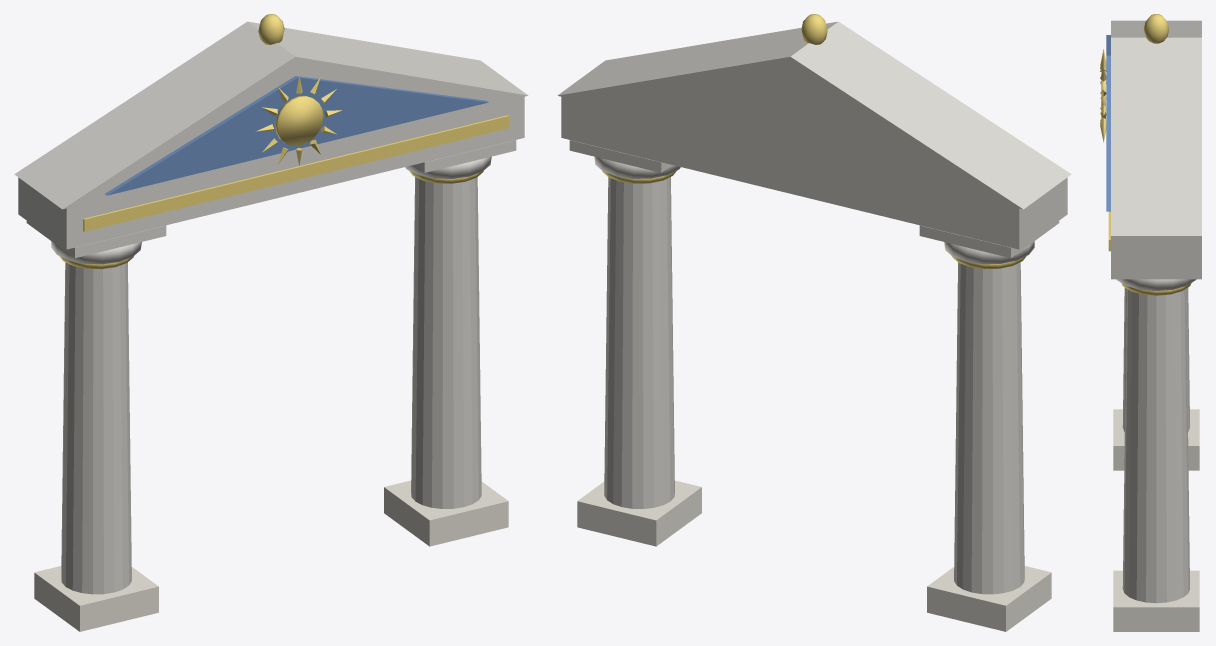
File: olimpo_puertas_marco.glb
The picture shows the model from 3 angles, left to right: view 1: azimuth 30°, elevation 25°; view 2: azimuth 150°, elevation 25°; view 3: azimuth 270°, elevation 25°; orthographic projection. The views are drawn at different scales.
Parts seen in each view (by area): view 1: olimpo_puertas_marco; view 2: olimpo_puertas_marco; view 3: olimpo_puertas_marco.
Boxes of the visible parts, x1=… form: olimpo_puertas_marco: x1=14, y1=14, x2=528, y2=631; olimpo_puertas_marco: x1=557, y1=14, x2=1071, y2=631; olimpo_puertas_marco: x1=1100, y1=14, x2=1201, y2=631.
Size of the model in its own units: 11.2 by 12.58 by 2.24.
